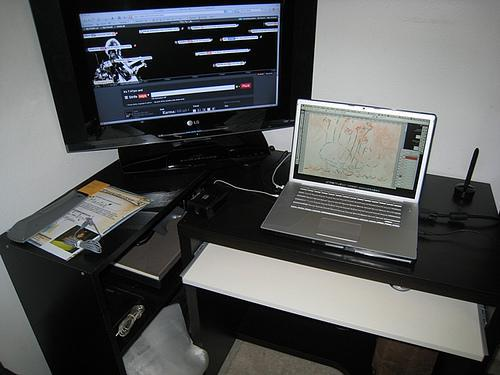tv: (22, 1, 317, 152), (287, 96, 441, 203)
